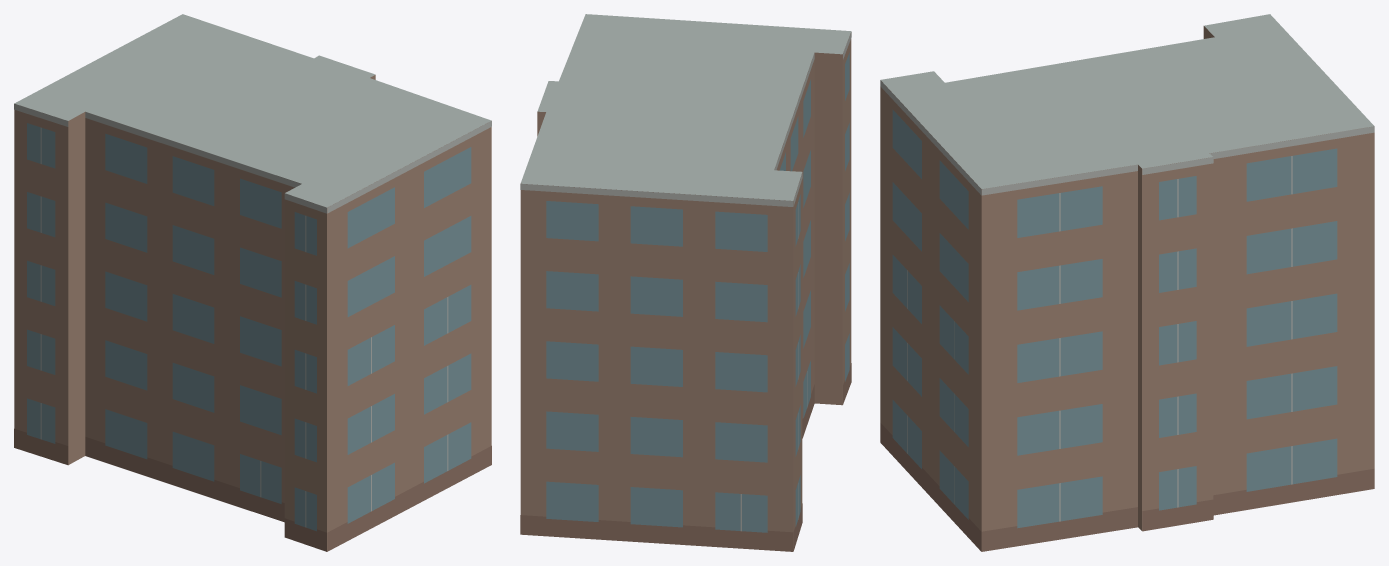
Rendered from survey-upis-32751067.glb.
3 views of the same model, side by side, from view 1: azimuth 30°, elevation 25°; view 2: azimuth 150°, elevation 25°; view 3: azimuth 270°, elevation 25° (orthographic). The views are drawn at different scales.
Visible parts, largest first — view 1: survey-upis-32751067.tmp; view 2: survey-upis-32751067.tmp; view 3: survey-upis-32751067.tmp.
Part boxes in pixels (bbox=[...]): survey-upis-32751067.tmp: bbox=[14, 14, 491, 551]; survey-upis-32751067.tmp: bbox=[520, 14, 851, 551]; survey-upis-32751067.tmp: bbox=[880, 14, 1374, 551].
Size of the model in its own units: 14.31 by 13.8 by 17.05.
